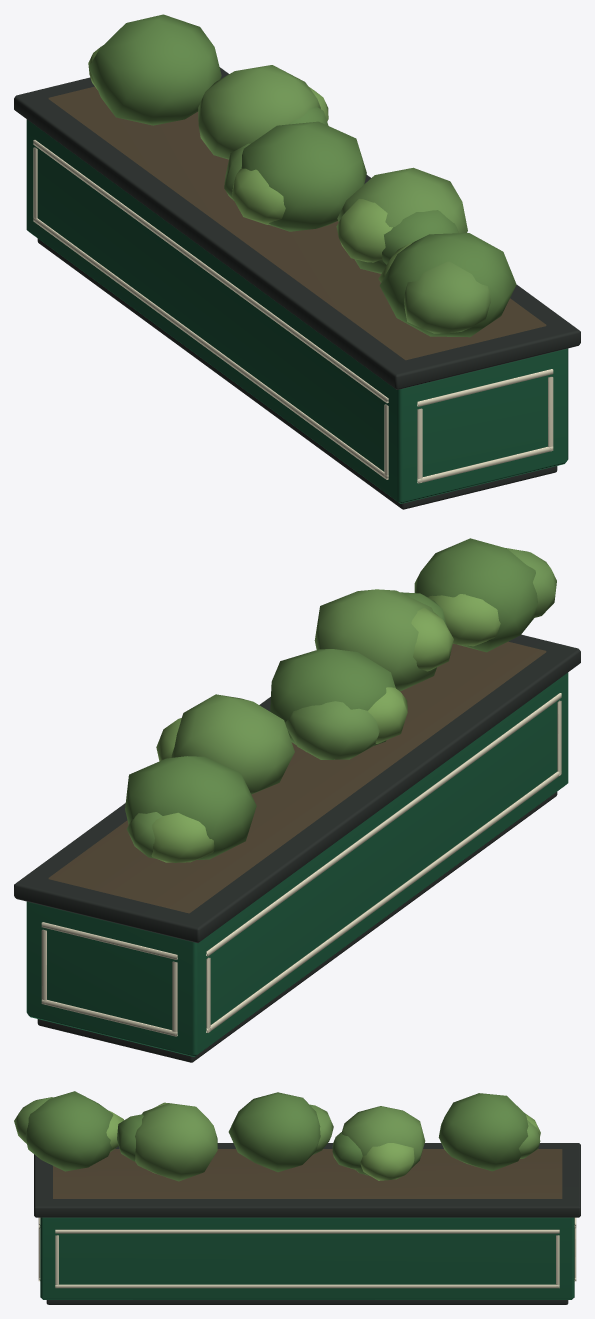
The model's file is edge_planter.glb.
3 views of the same model, one above another, from view 1: azimuth 30°, elevation 25°; view 2: azimuth 150°, elevation 25°; view 3: azimuth 270°, elevation 25° (orthographic). The views are drawn at different scales.
Visible parts, largest first — view 1: PlanterBox, PlanterSoil, PlanterRim, Shrub0Core, Shrub2Core, Shrub1Core, Shrub4Core, Shrub4Side0, Shrub3Core, PlanterFeet, Shrub3Side0, PlanterInlayX-1T (+5 smaller); view 2: PlanterBox, PlanterSoil, PlanterRim, Shrub0Core, Shrub1Core, Shrub4Core, Shrub3Core, Shrub2Core, Shrub2Side0, PlanterFeet, Shrub0Side1, PlanterInlayX-1T (+8 smaller); view 3: PlanterBox, PlanterSoil, PlanterRim, Shrub2Core, Shrub0Core, Shrub4Core, Shrub3Core, Shrub1Core, PlanterFeet, PlanterInlayX1T, PlanterInlayX1B, Shrub1Side0 (+6 smaller).
Boxes of the visible parts, x1,y1,x2,y2 form: PlanterBox: (26,119,568,503); PlanterSoil: (48,86,546,360); PlanterRim: (14,67,580,389); Shrub0Core: (89,14,221,125); Shrub2Core: (241,121,366,231); Shrub1Core: (198,65,320,159); Shrub4Core: (379,233,516,337); Shrub4Side0: (404,261,490,333); Shrub3Core: (337,167,467,273); PlanterFeet: (37,238,557,509); Shrub3Side0: (336,199,392,262); PlanterInlayX-1T: (33,140,388,403); PlanterBox: (26,672,568,1056); PlanterSoil: (48,641,546,913); PlanterRim: (14,634,580,943); Shrub0Core: (125,756,256,859); Shrub1Core: (171,694,294,794); Shrub4Core: (414,538,537,652); Shrub3Core: (314,589,436,691); Shrub2Core: (270,649,395,752); Shrub2Side0: (285,701,379,759); PlanterFeet: (37,792,557,1062); Shrub0Side1: (151,812,214,862); PlanterInlayX-1T: (206,693,561,956); PlanterBox: (40,1217,574,1299); PlanterSoil: (53,1149,562,1198); PlanterRim: (34,1143,580,1217); Shrub2Core: (228,1092,320,1172); Shrub0Core: (438,1093,528,1171); Shrub4Core: (25,1091,113,1171); Shrub3Core: (135,1103,217,1181); Shrub1Core: (342,1106,425,1175); PlanterFeet: (46,1300,568,1304); PlanterInlayX1T: (55,1229,559,1233); PlanterInlayX1B: (55,1284,559,1288); Shrub1Side0: (360,1143,414,1180).
Size of the model in its own units: 0.6121 by 0.7862 by 2.26.
